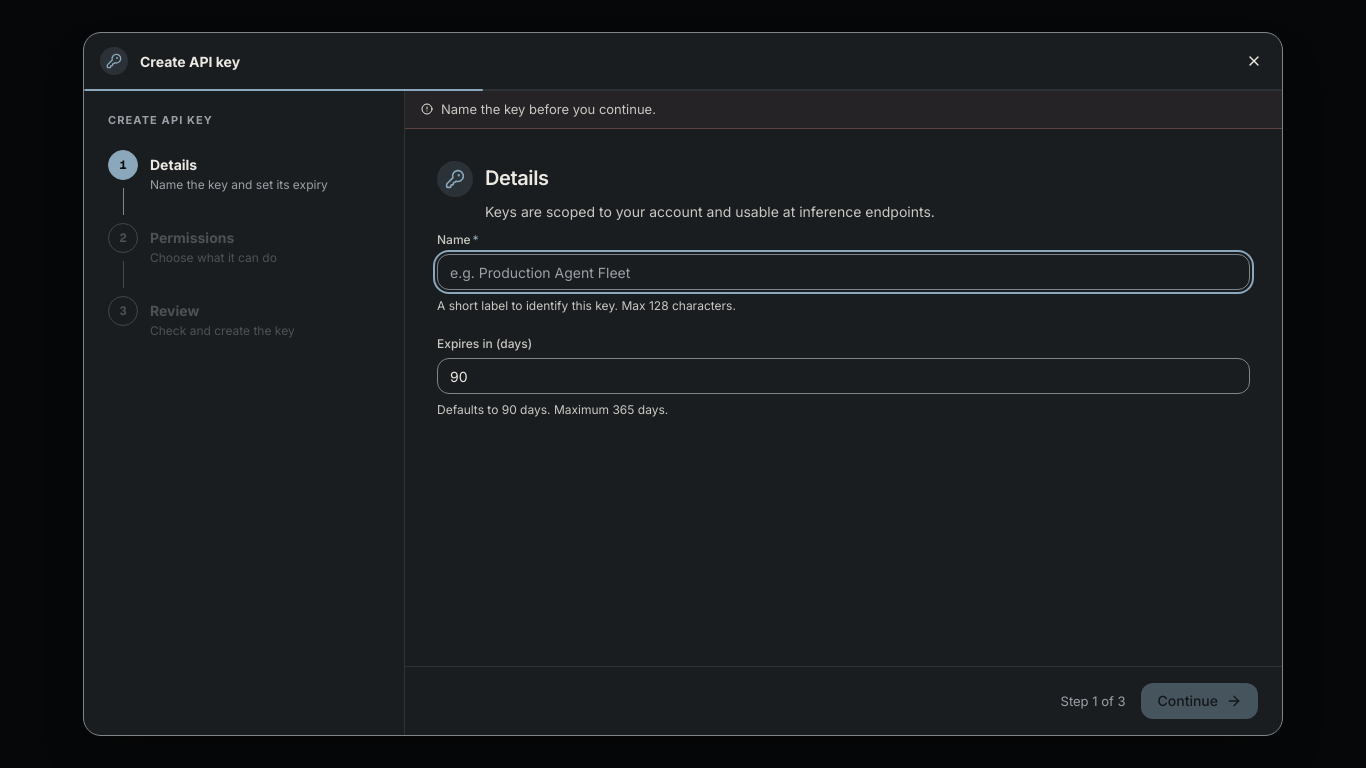
CreateApiKeyWizard › explains when the account has no scopes to give
The width and height of the screenshot is (1366, 768).
In the field labelled "Name*": [844, 272] box [437,254,1250,290], type "CI key"
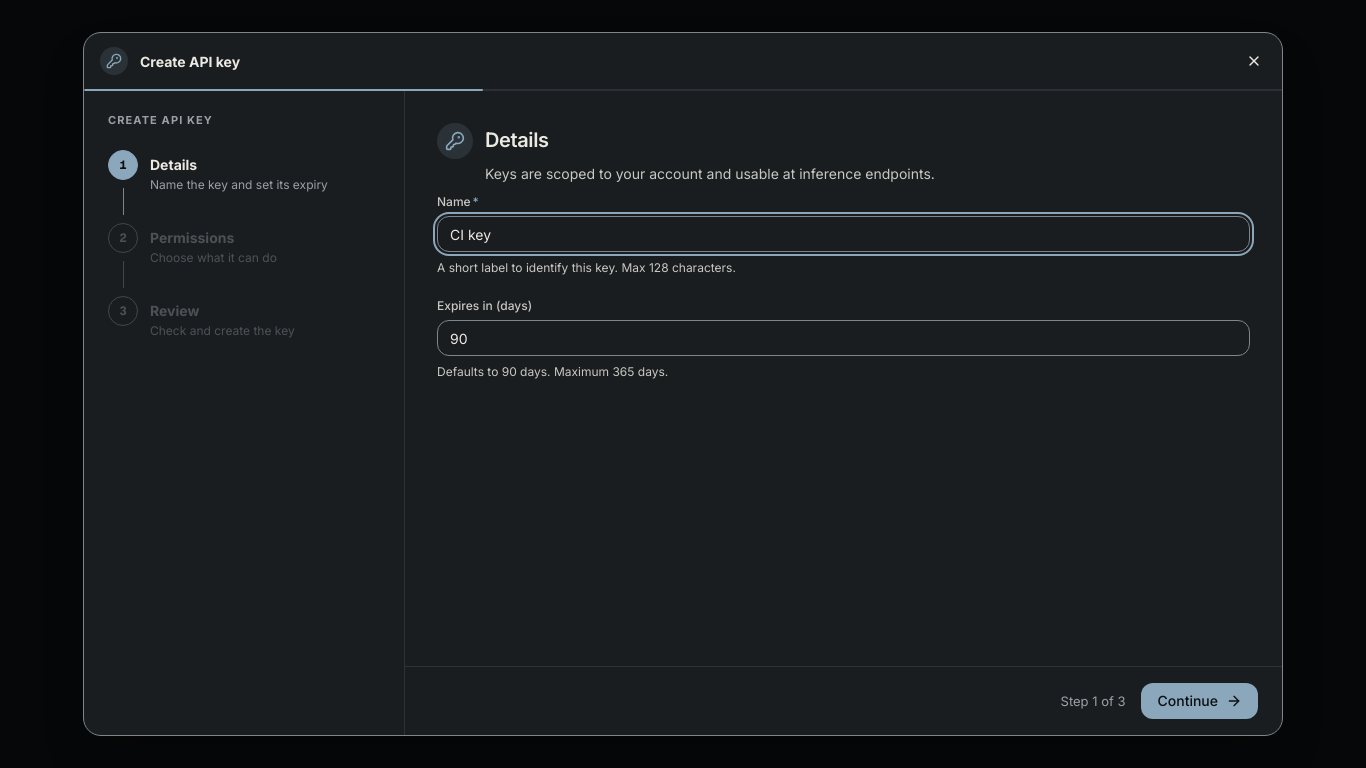
Click the button "Continue": [1200, 701] box [1142,683,1258,719]
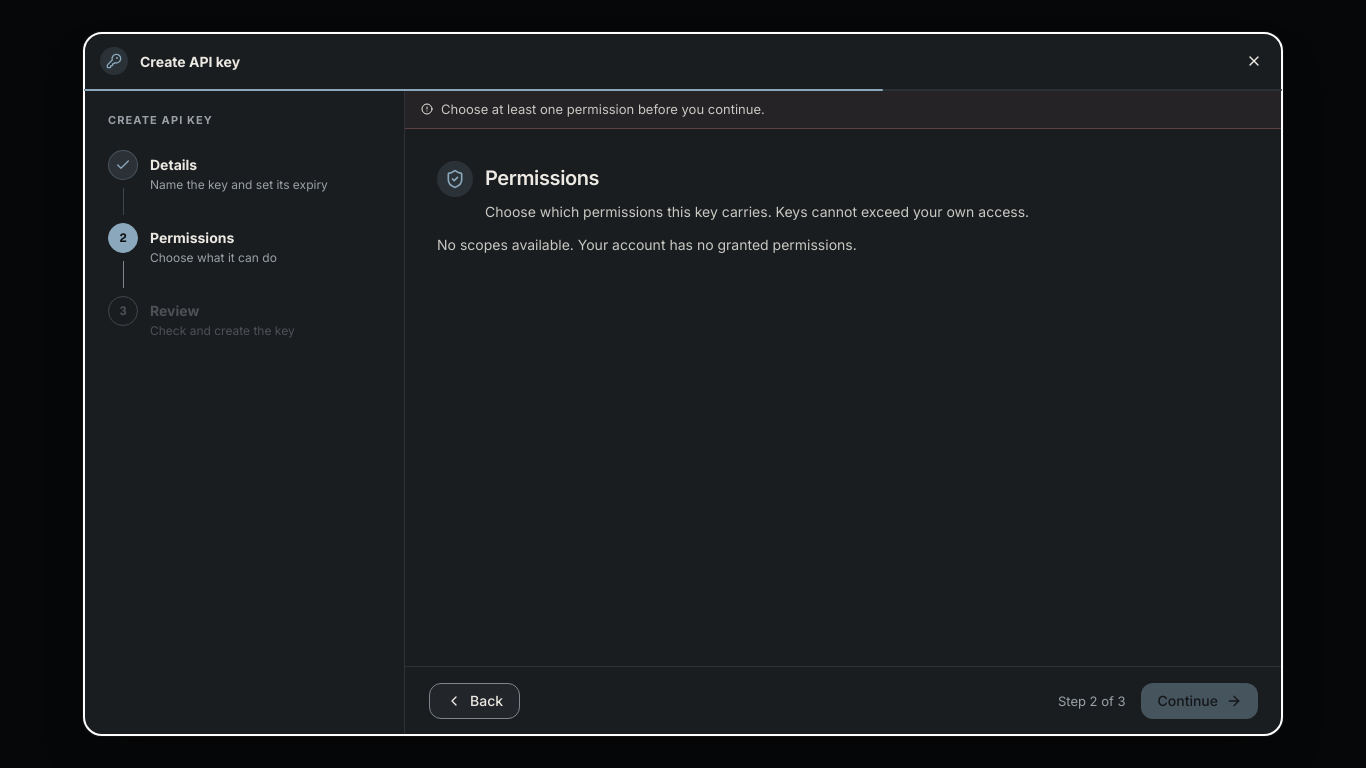
Result: the text "No scopes available" is shown at [437,236,857,253]
Result: the button "Continue" is disabled at [1142,683,1258,719]
